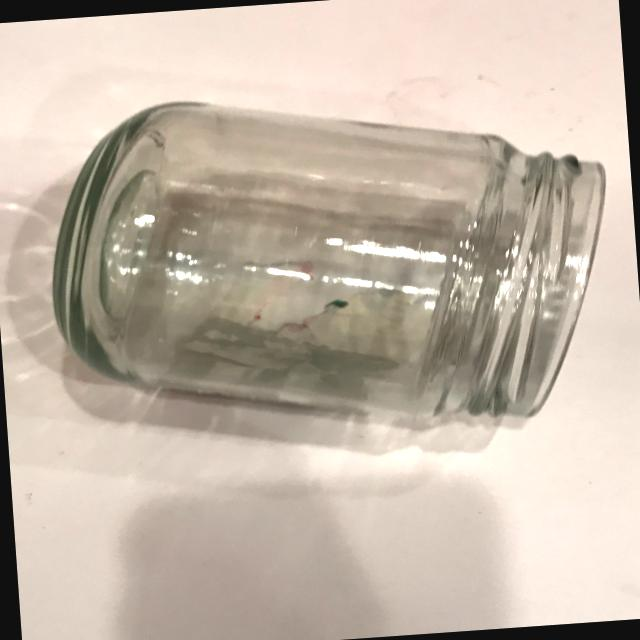Glass: (33, 59, 626, 458)
